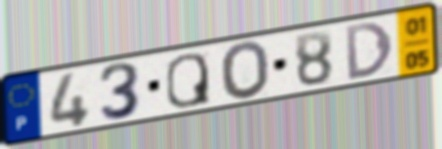3: (97, 60, 144, 123)
4: (47, 70, 93, 129)
8: (292, 30, 336, 88)
D: (343, 19, 396, 83)
O: (218, 39, 273, 104)
Q: (164, 51, 213, 110)
